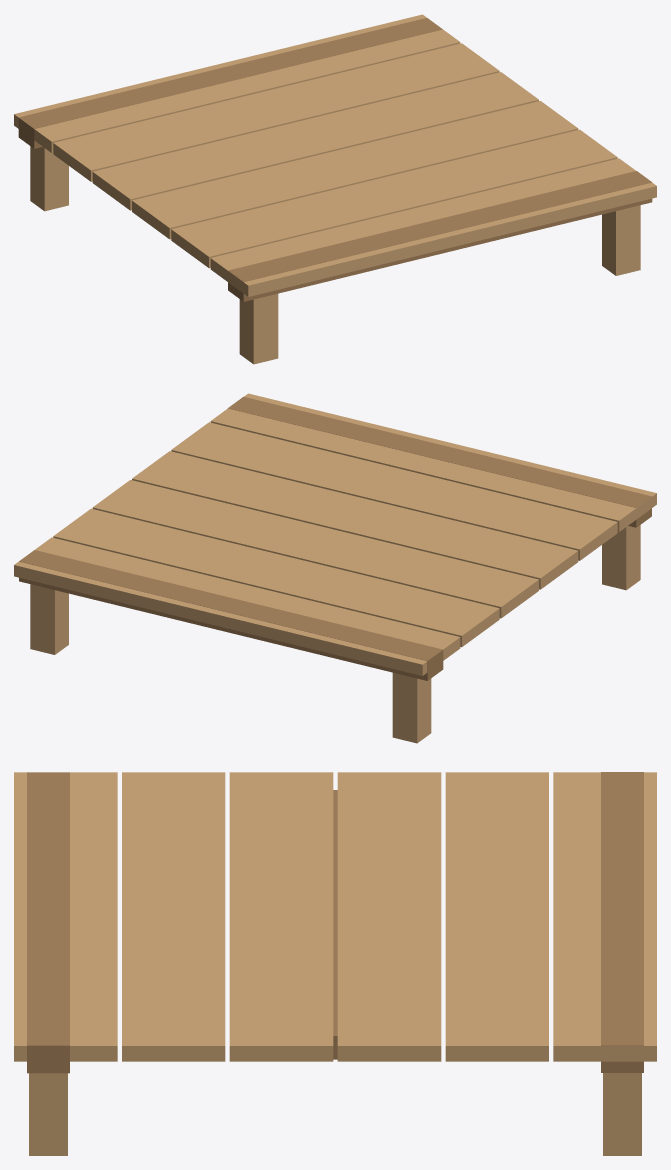
The model's file is tournament-platform-deck.glb.
3 renders of one model, top to bottom at view 1: azimuth 30°, elevation 25°; view 2: azimuth 150°, elevation 25°; view 3: azimuth 270°, elevation 25°, orthographic. The views are drawn at different scales.
Visible parts, largest first — view 1: tournament-platform-deck; view 2: tournament-platform-deck; view 3: tournament-platform-deck.
Boxes of the visible parts, x1,y1,x2,y2 form: tournament-platform-deck: [14, 14, 656, 364]; tournament-platform-deck: [14, 393, 656, 743]; tournament-platform-deck: [14, 772, 656, 1155].
Size of the model in its own units: 3 by 0.6011 by 2.98.
